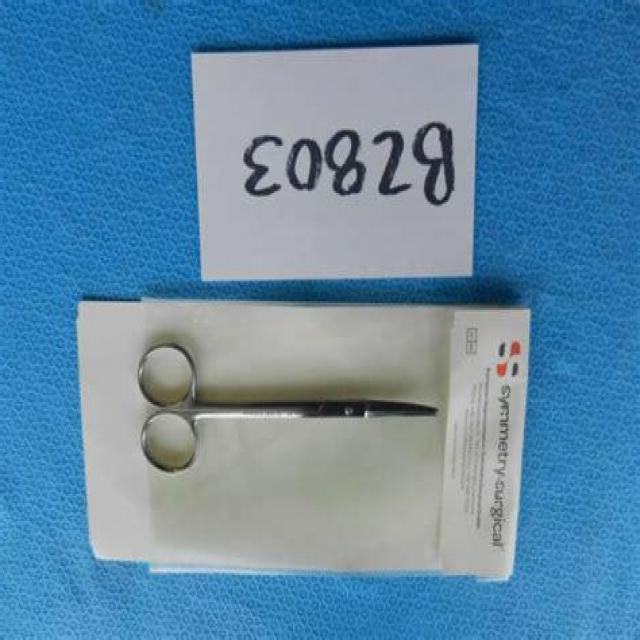Mayo_metz: (136, 329, 442, 482)
